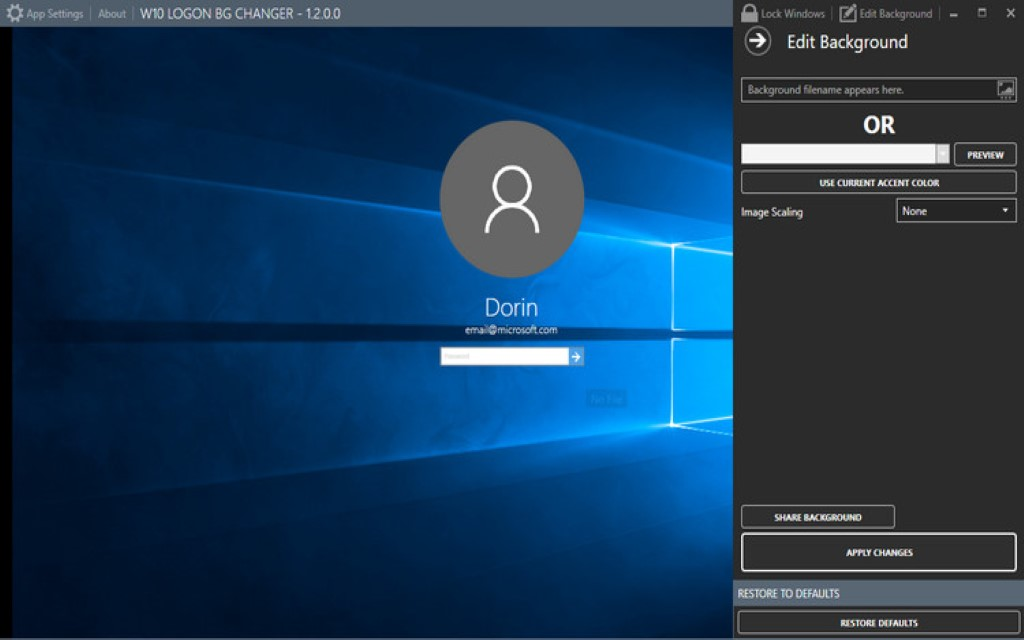button: (743, 533, 1017, 572), (738, 609, 1019, 635), (742, 504, 896, 529), (954, 142, 1017, 166)
textbox: (743, 77, 997, 103), (740, 144, 936, 162), (440, 347, 570, 364)
